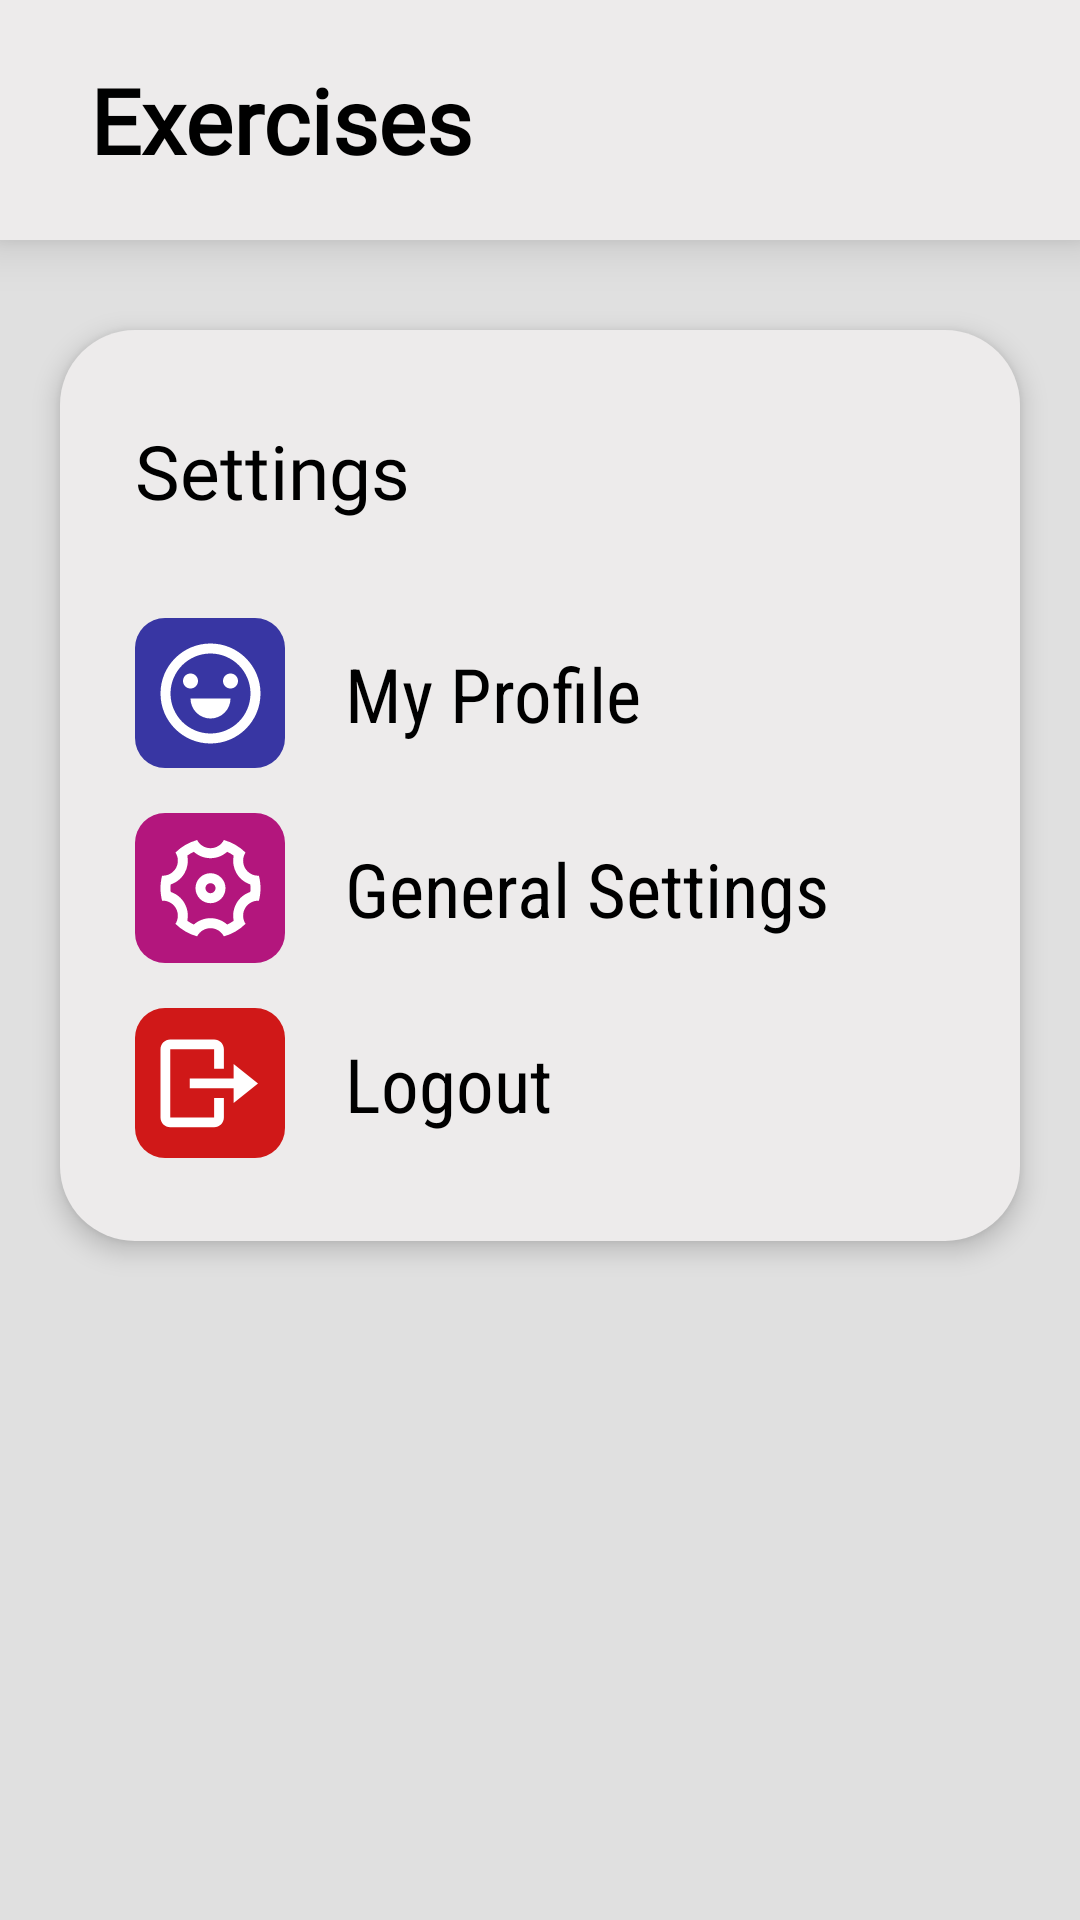

Icons on this 1080px x 1920px Android screen, each with the point to tap as [x,y]:
smile: [210,693]
